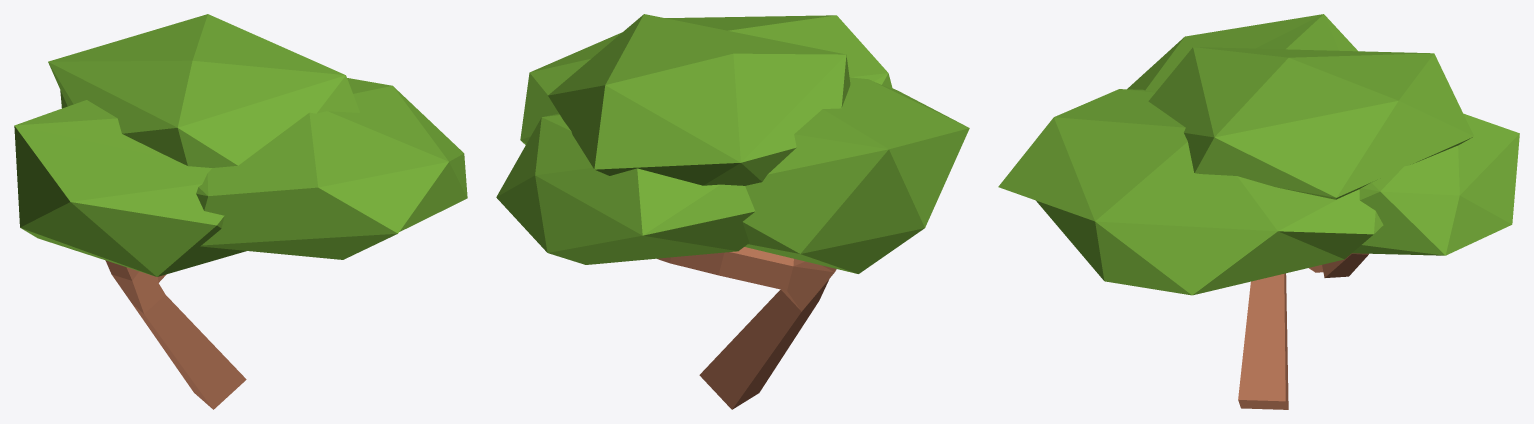
The model's file is oak 5.gltf.
3 views of the same model, side by side, from view 1: azimuth 30°, elevation 25°; view 2: azimuth 150°, elevation 25°; view 3: azimuth 270°, elevation 25° (orthographic). The views are drawn at different scales.
Parts seen in each view (by area): view 1: Icosphere.001, Icosphere.014, Icosphere.002, tree.002; view 2: Icosphere.014, Icosphere.002, Icosphere, tree.002, Icosphere.001; view 3: Icosphere.001, Icosphere.014, Icosphere, tree.002, Icosphere.002.
Part boxes in pixels (x1,y1,x2,y2): Icosphere.001: [196, 78, 467, 259]; Icosphere.014: [48, 14, 359, 167]; Icosphere.002: [14, 100, 246, 276]; tree.002: [105, 260, 246, 409]; Icosphere.014: [548, 14, 850, 185]; Icosphere.002: [742, 77, 969, 273]; Icosphere: [496, 113, 755, 264]; tree.002: [657, 247, 836, 409]; Icosphere.001: [520, 15, 892, 144]; Icosphere.001: [998, 89, 1383, 295]; Icosphere.014: [1148, 47, 1473, 199]; Icosphere: [1352, 113, 1519, 255]; tree.002: [1238, 253, 1368, 409]; Icosphere.002: [1127, 14, 1357, 92].
Size of the model in its own units: 8.92 by 7.06 by 9.49.
1 material, 1 textured.
